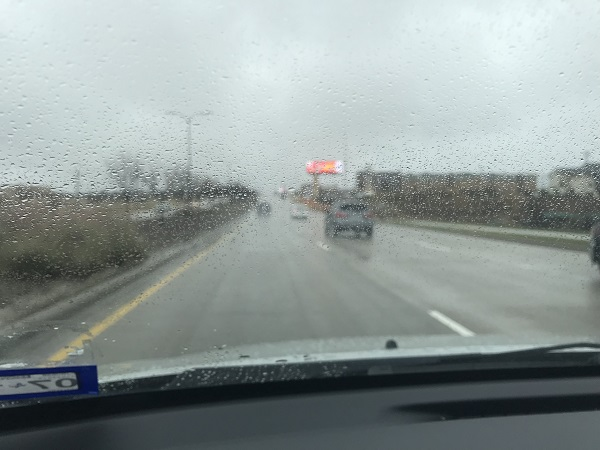car: (325, 203, 371, 236), (291, 201, 306, 215)
